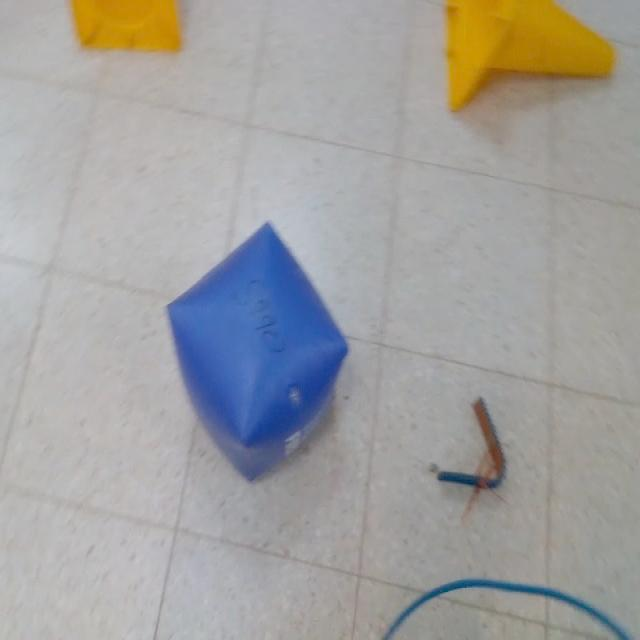cone: (444, 0, 618, 109), (74, 0, 186, 49)
cube: (163, 213, 349, 484)
